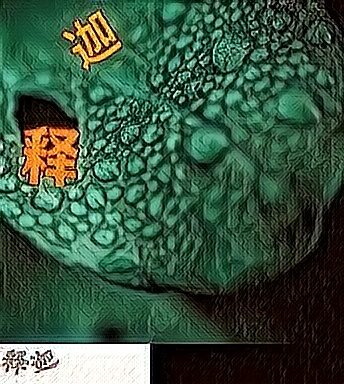CACD: (19, 124, 79, 188)
E5C8: (63, 6, 123, 70)
